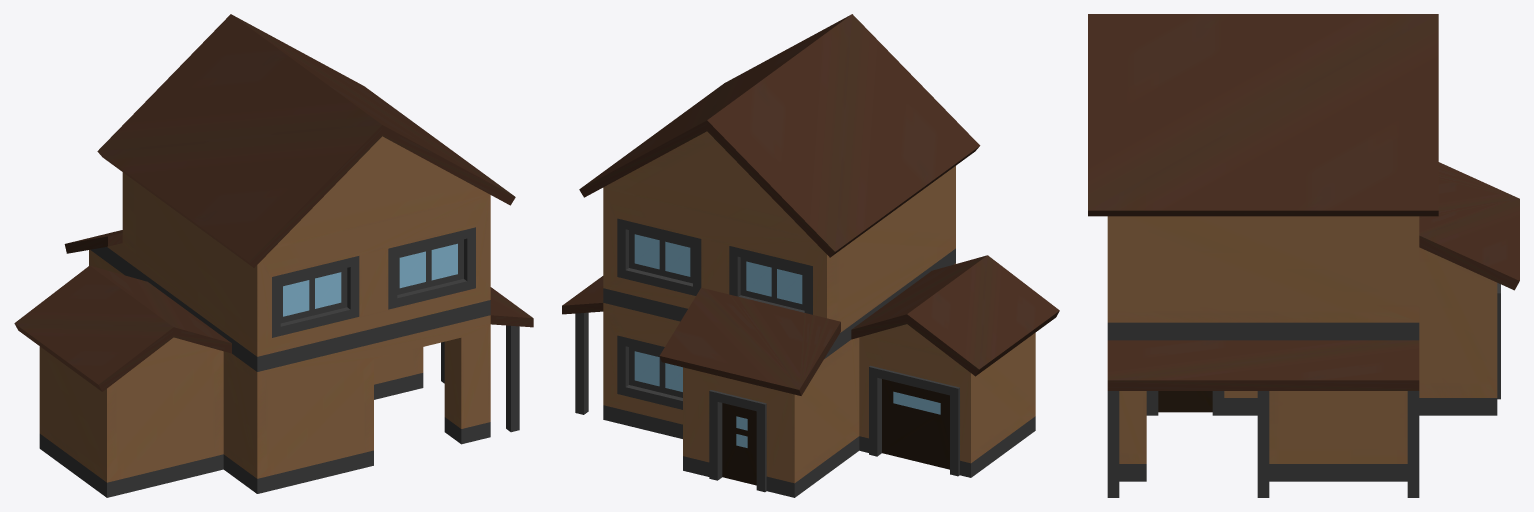
The model's file is house_type17.fbx.
The picture shows the model from 3 angles, left to right: view 1: azimuth 30°, elevation 25°; view 2: azimuth 150°, elevation 25°; view 3: azimuth 270°, elevation 25°; orthographic projection. The views are drawn at different scales.
Visible parts, largest first — view 1: house_type17; view 2: house_type17; view 3: house_type17.
Part boxes in pixels (x1=…): house_type17: x1=14, y1=14, x2=533, y2=497; house_type17: x1=562, y1=14, x2=1059, y2=497; house_type17: x1=1088, y1=14, x2=1519, y2=497.
Bounding box in the file's own units: 14.06 × 11.38 × 11.08.
1 material, 1 textured.
